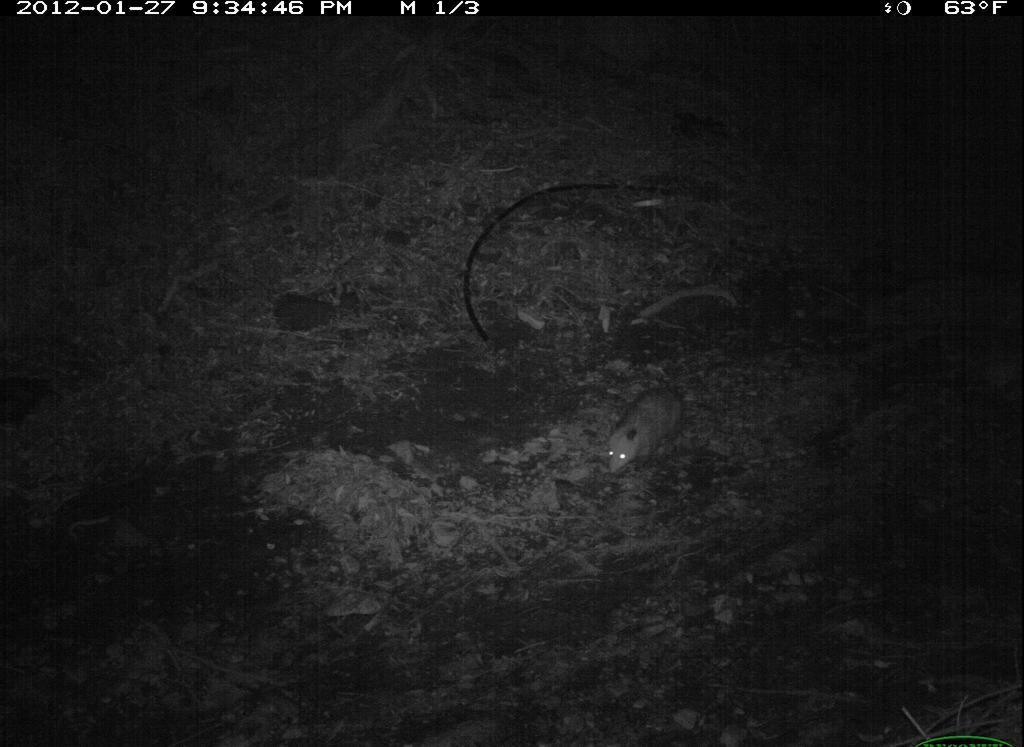opossum: (592, 374, 710, 492)
